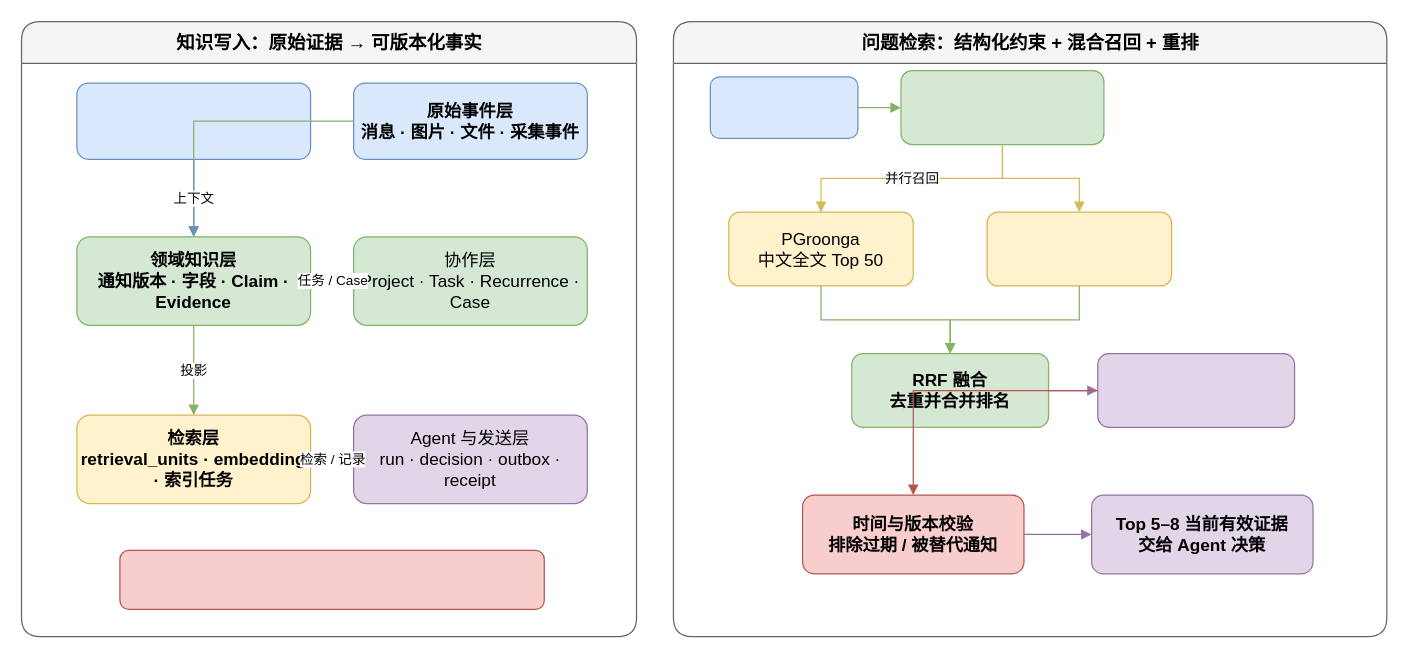
The diagram is 1408 pixels wide and 658 high, and some of its shapes have lost their labels. The shapes that lost their labels are listed below. From the top down, each one's centre as x and y in pixels, then its label:
At [193,120]: "身份层 班级 · 学期 · 群 · 身份 · 角色".
At [783,107]: "家长问题".
At [1002,107]: "结构化过滤 class · term · status · time".
At [1079,248]: "pgvector 语义召回 Top 50".
At [1196,389]: "Qwen3-Reranker Top 20".
At [331,579]: "字段级 EvidenceLink 贯穿原始消息、附件页 / 图片区域与通知字段".
